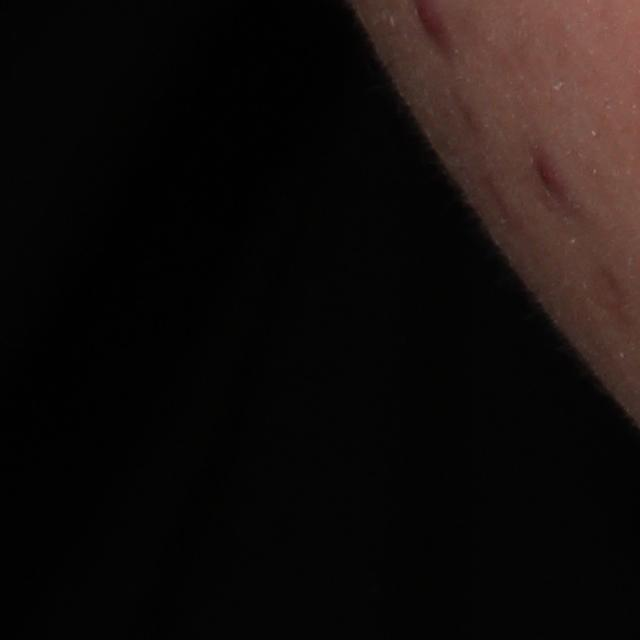papule: (532, 151, 577, 208)
